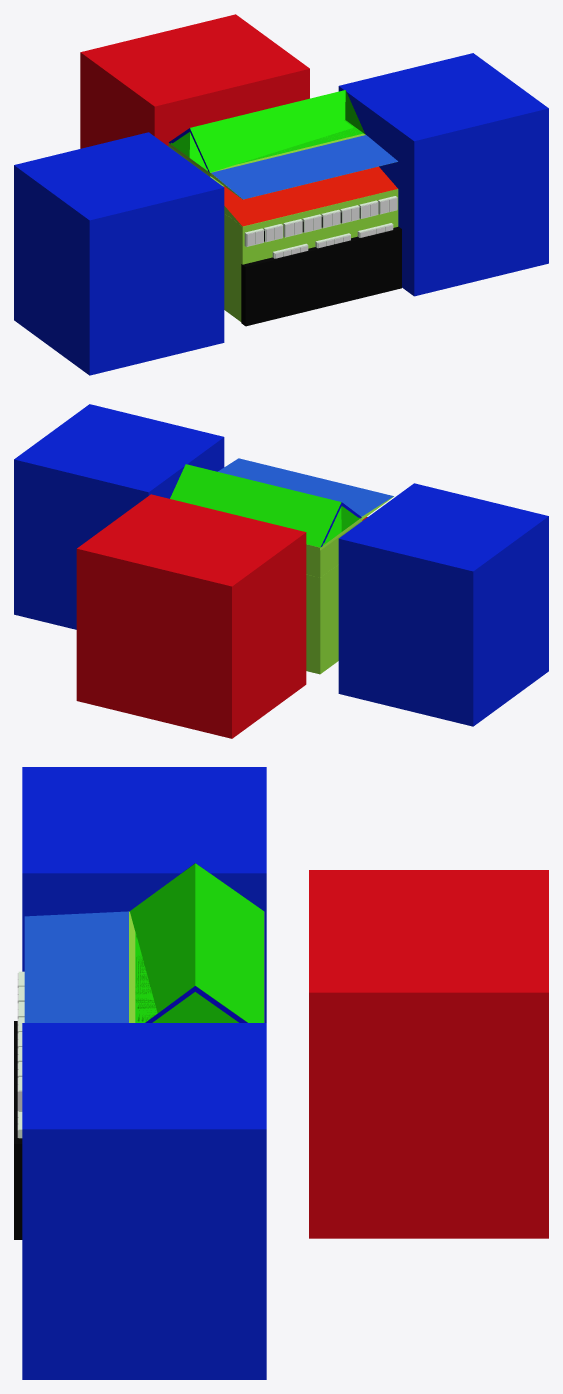
File: bla.gltf
The picture shows the model from 3 angles, top to bottom: view 1: azimuth 30°, elevation 25°; view 2: azimuth 150°, elevation 25°; view 3: azimuth 270°, elevation 25°; orthographic projection. The views are drawn at different scales.
Visible parts, largest first — view 1: Cube.003, Cube.001, Cube.004, Cube, black_wall.005, black_wall.004, black_wall, black_wall.003, black_wall.001; view 2: Cube.004, Cube.003, Cube.001, black_wall.005, black_wall, black_wall.004, black_wall.001; view 3: Cube.004, Cube.001, Cube.003, black_wall.005, black_wall.004, Cube, black_wall.001.
Boxes of the visible parts, x1=… form: Cube.003: x1=14, y1=132, x2=224, y2=375; Cube.001: x1=338, y1=53, x2=548, y2=296; Cube.004: x1=80, y1=14, x2=309, y2=148; Cube: x1=241, y1=226, x2=401, y2=326; black_wall.005: x1=170, y1=90, x2=365, y2=172; black_wall.004: x1=211, y1=135, x2=397, y2=199; black_wall: x1=224, y1=189, x2=398, y2=321; black_wall.003: x1=223, y1=166, x2=397, y2=226; black_wall.001: x1=168, y1=133, x2=370, y2=226; Cube.004: x1=76, y1=494, x2=306, y2=738; Cube.003: x1=338, y1=483, x2=548, y2=726; Cube.001: x1=14, y1=404, x2=224, y2=629; black_wall.005: x1=170, y1=464, x2=359, y2=547; black_wall: x1=306, y1=564, x2=338, y2=674; black_wall.004: x1=218, y1=458, x2=393, y2=516; black_wall.001: x1=306, y1=496, x2=393, y2=577; Cube.004: x1=309, y1=870, x2=548, y2=1238; Cube.001: x1=22, y1=1023, x2=266, y2=1379; Cube.003: x1=22, y1=767, x2=266, y2=1022; black_wall.005: x1=129, y1=863, x2=263, y2=1022; black_wall.004: x1=24, y1=911, x2=128, y2=1022; Cube: x1=14, y1=1021, x2=22, y2=1239; black_wall.001: x1=129, y1=911, x2=264, y2=1022.
Size of the model in its own units: 127 by 45.02 by 79.03.
